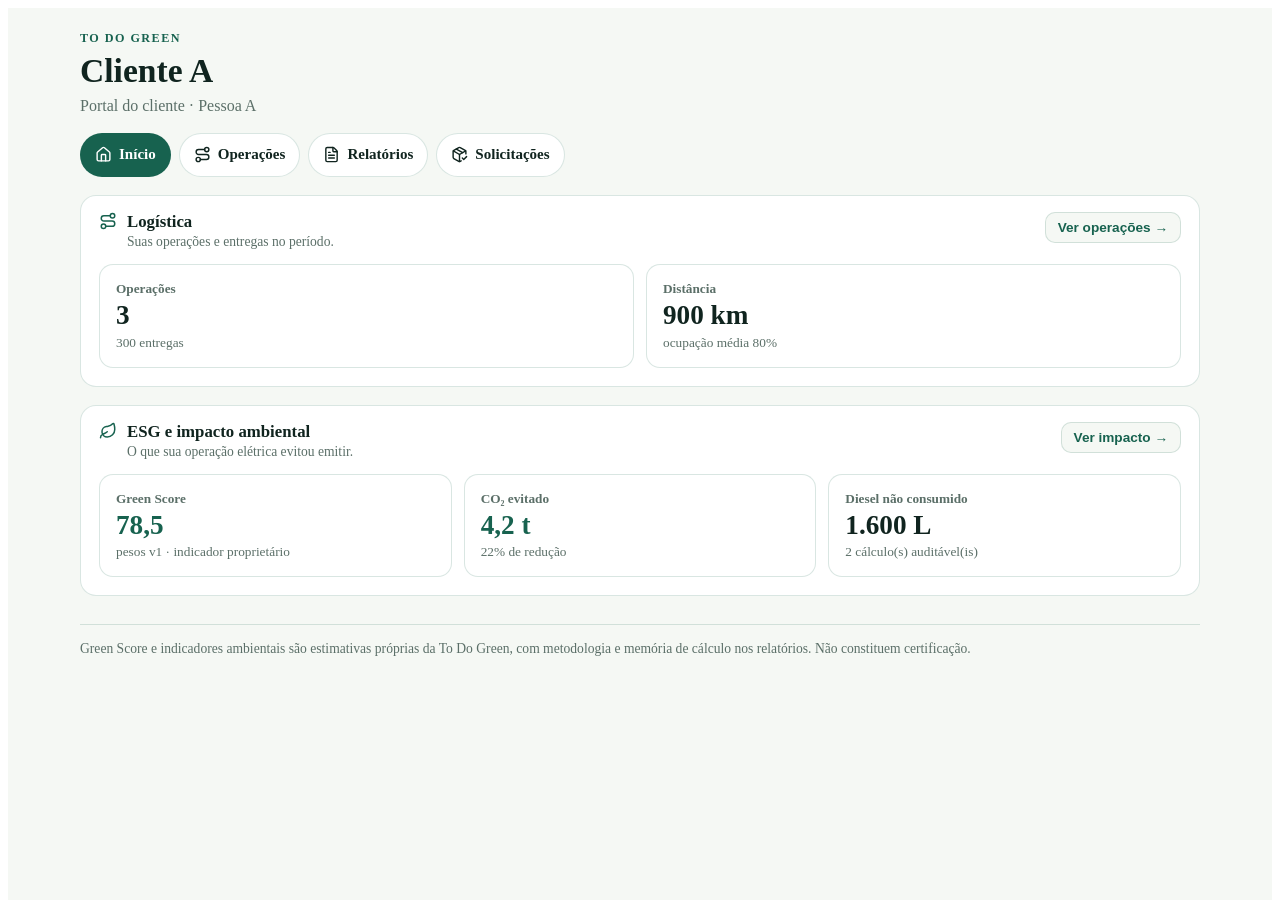
Test case: Solicitações do cliente › quem só lê não vê o botão de abrir solicitação
The width and height of the screenshot is (1280, 900).
Expected: the heading "Cliente A" is shown, [80, 52, 213, 89]
Click the button "Solicitações".
click(500, 155)  # box [436, 133, 565, 177]
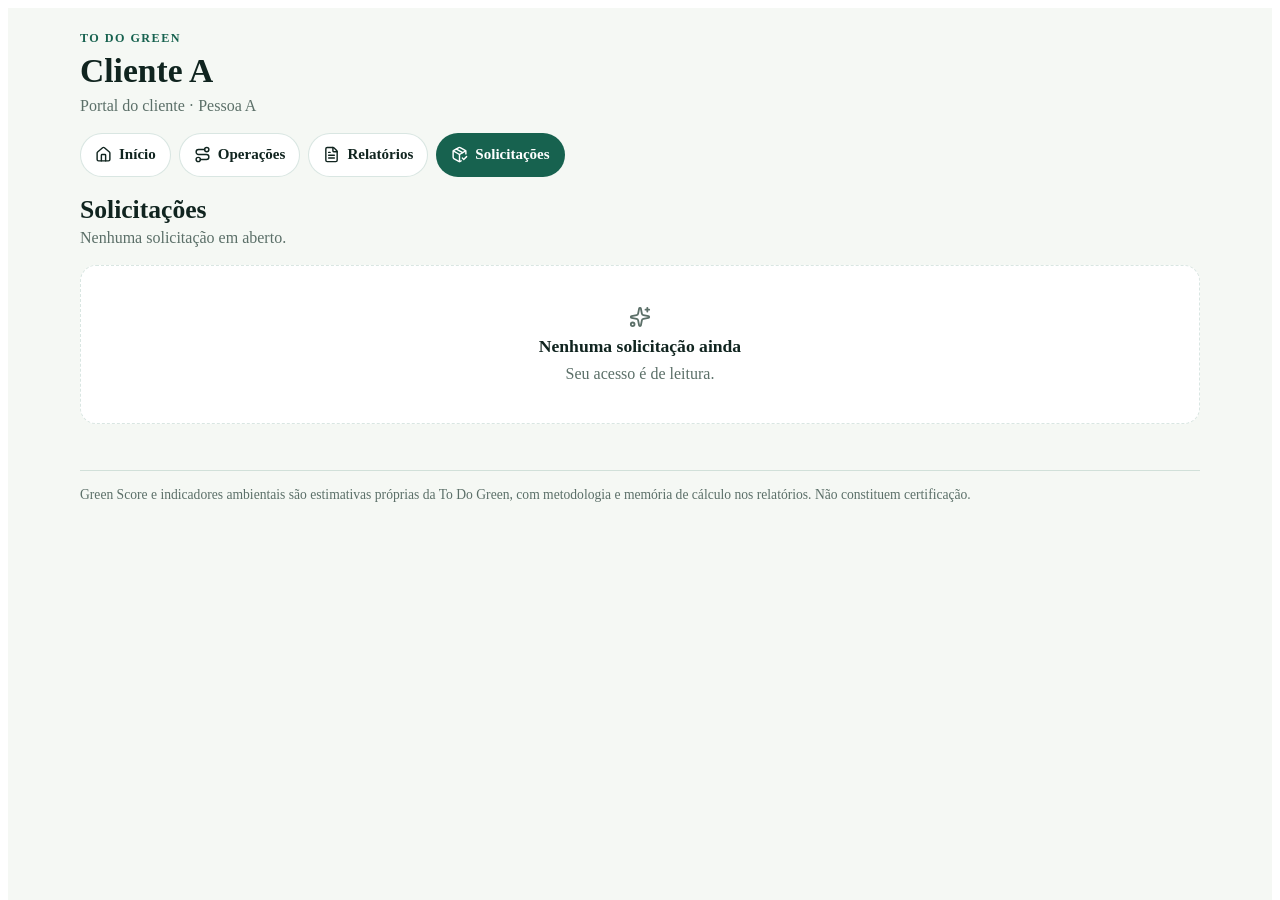
Expected: the text "Seu acesso é de leitura." is shown, [566, 365, 714, 383]
